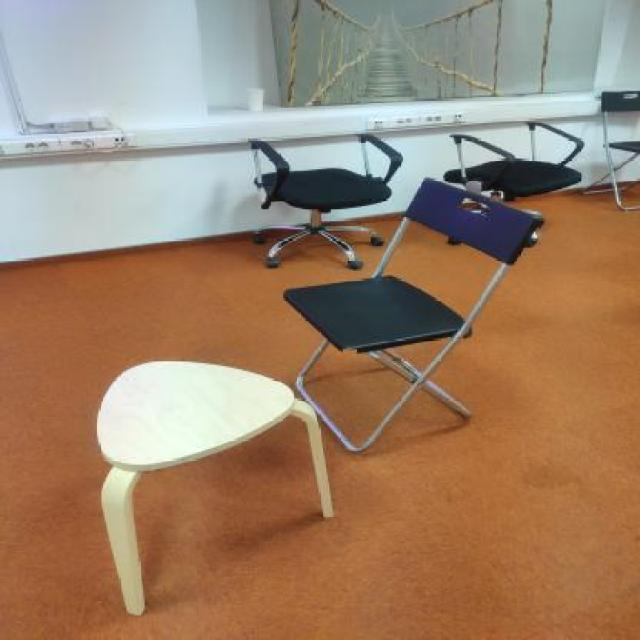chair: (284, 172, 550, 456), (237, 119, 411, 275), (438, 108, 596, 254)
